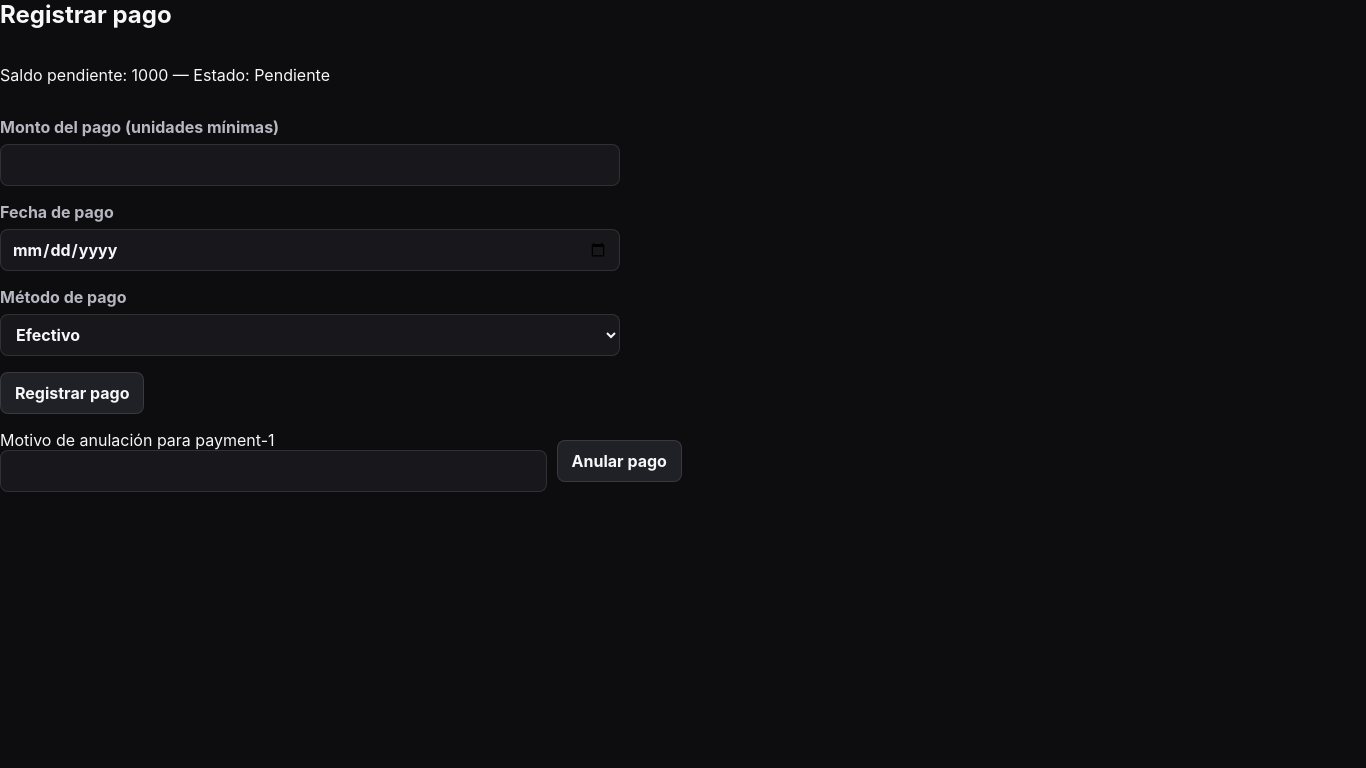
Test: PaymentForm › uses safe messages when payment mutations reject with non-Error values
Check: the text "Saldo pendiente: 1000 — Estado: Pendiente" is shown, box [0,65,330,85]
Type "400" into the field labelled "Monto del pago (unidades mínimas)". click: (310, 165)
box: [0,144,620,186]
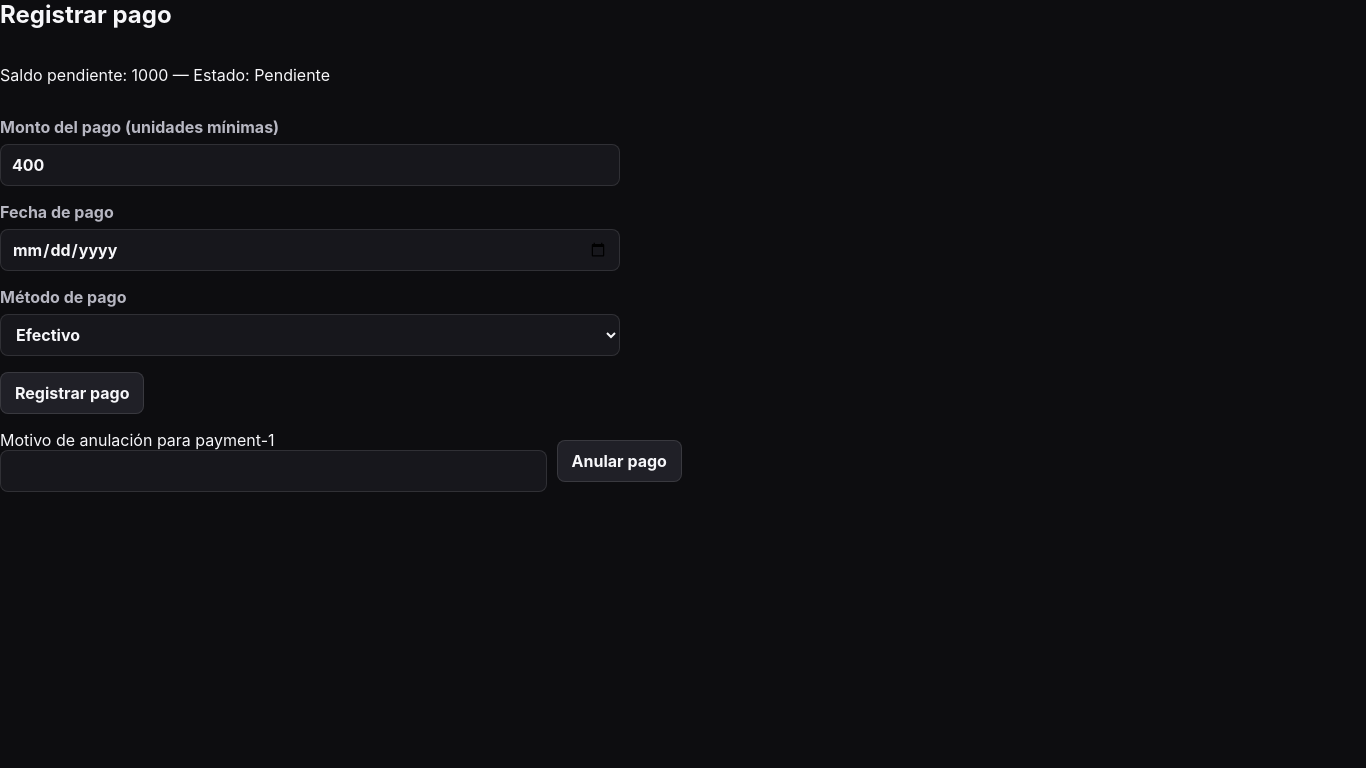
Type "2026-08-10" into the date field labelled "Fecha de pago". click: (310, 250)
box: [0,229,620,271]
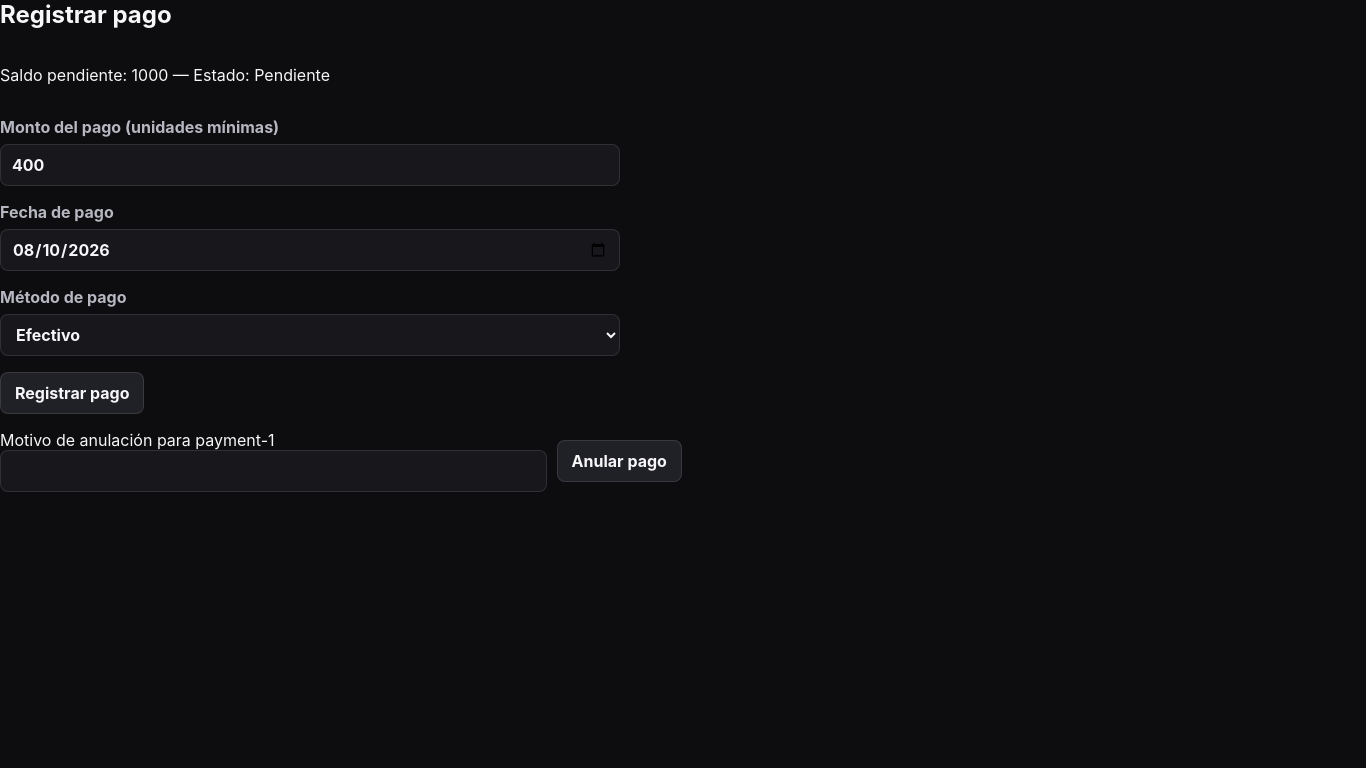
Click the button "Registrar pago". click: click(72, 393)
box: [0,372,144,414]
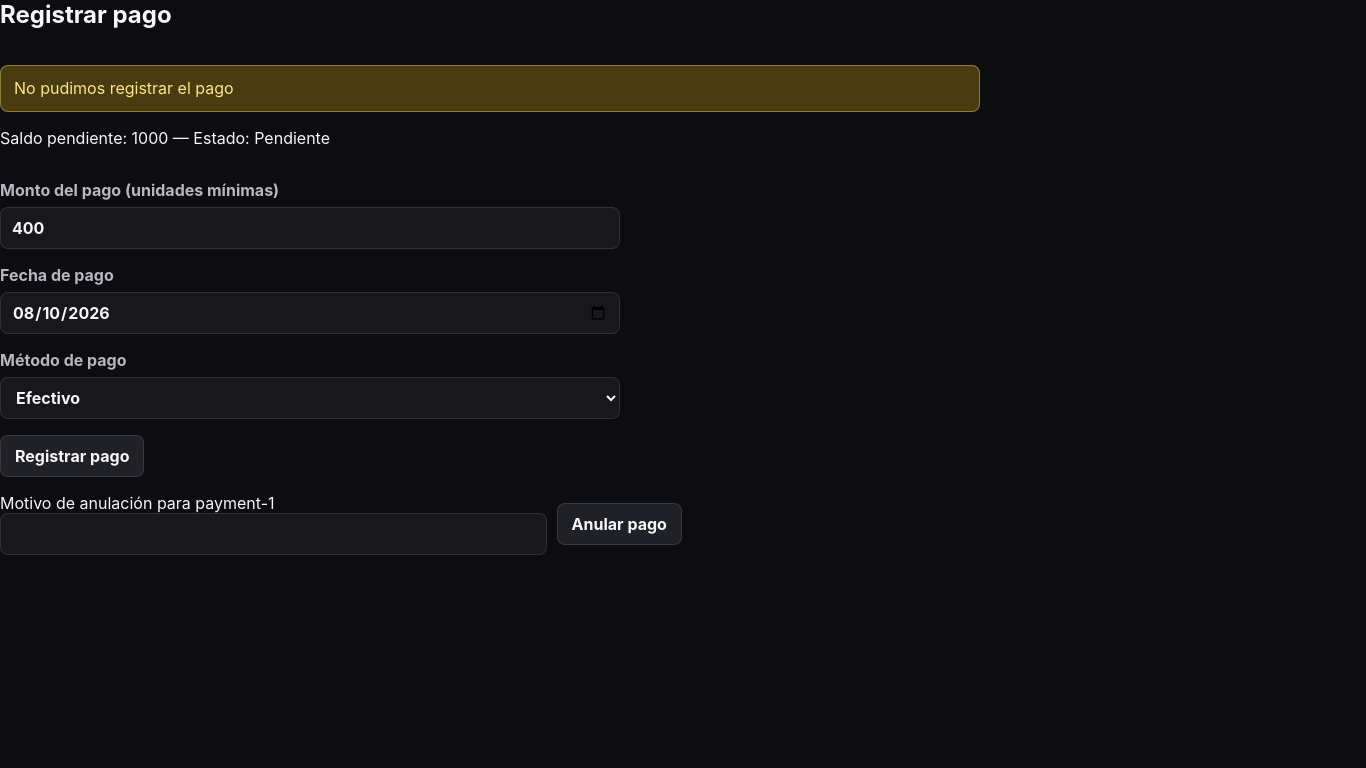
Check: the message reads "No pudimos registrar el pago", box [14,78,234,98]
Type "Duplicate entry" into the field labelled "Motivo de anulación para payment-1". click: (273, 534)
box: [0,513,547,555]
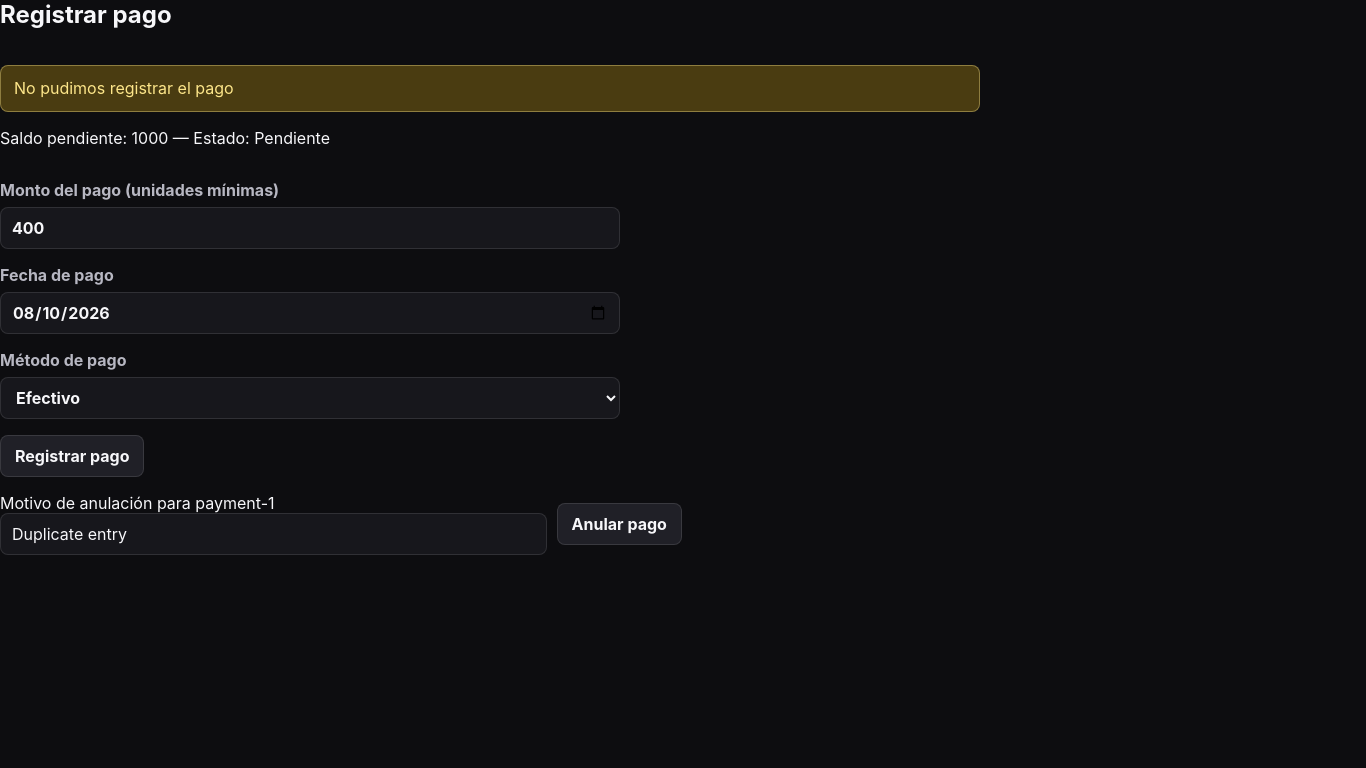
Click the button with aria-label "Anular pago payment-1". click: click(619, 524)
box: [557,503,682,545]
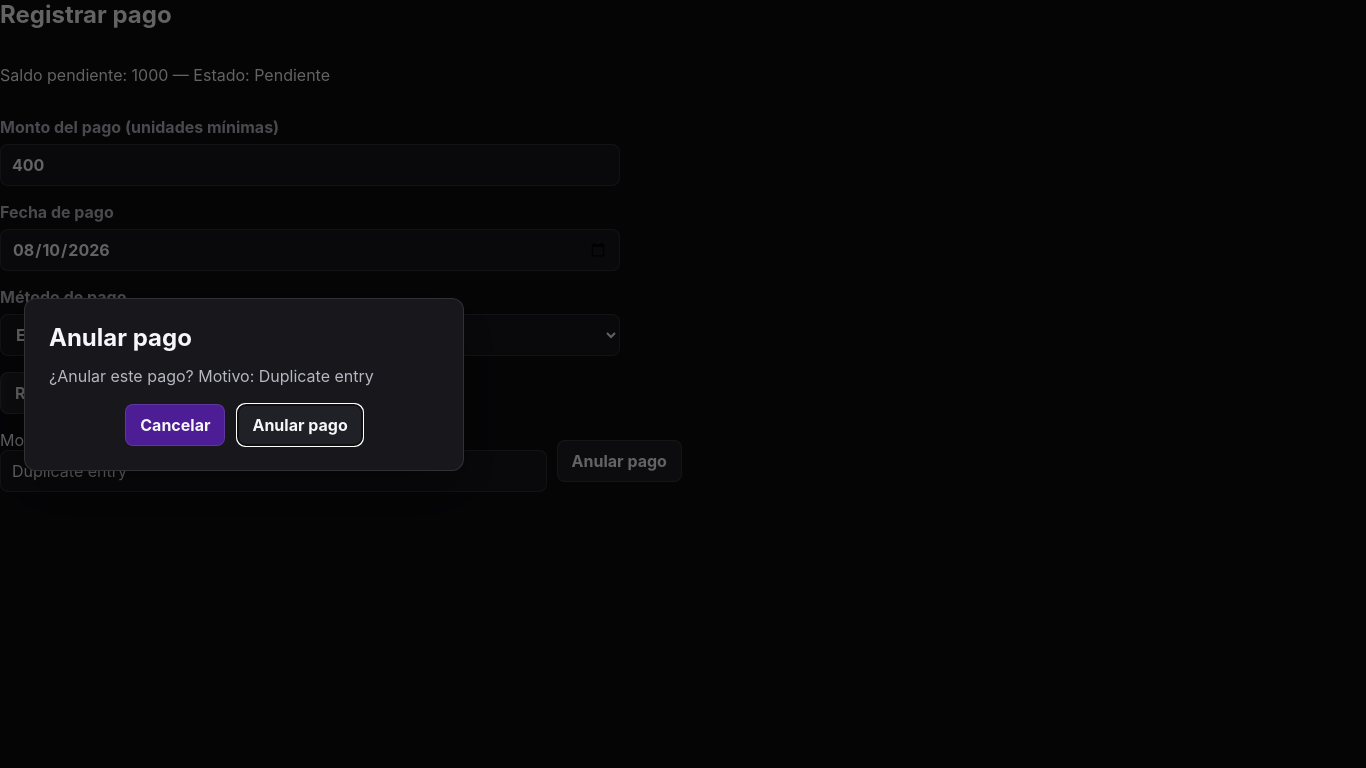
Click the button "Anular pago". click: click(300, 424)
box: [238,404,363,446]
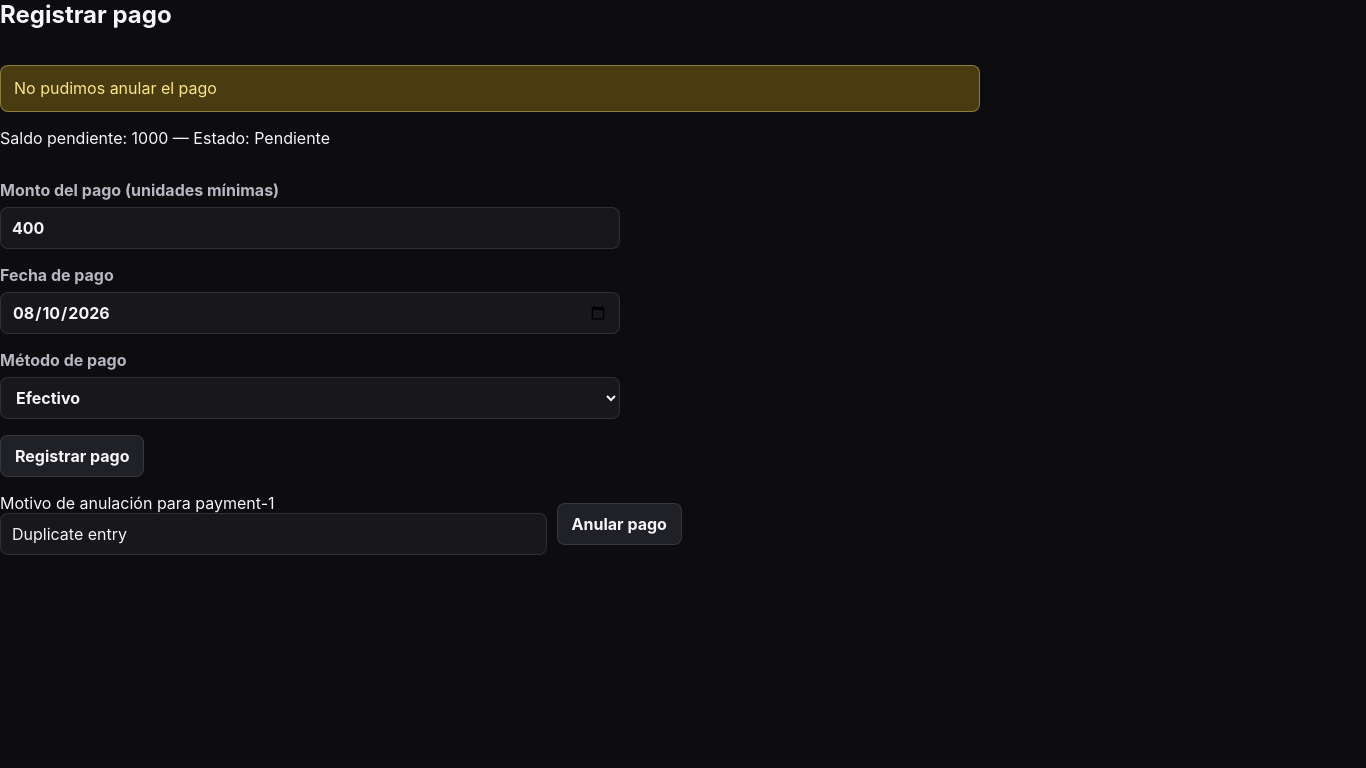
Check: the message reads "No pudimos anular el pago", box [14,78,217,98]
